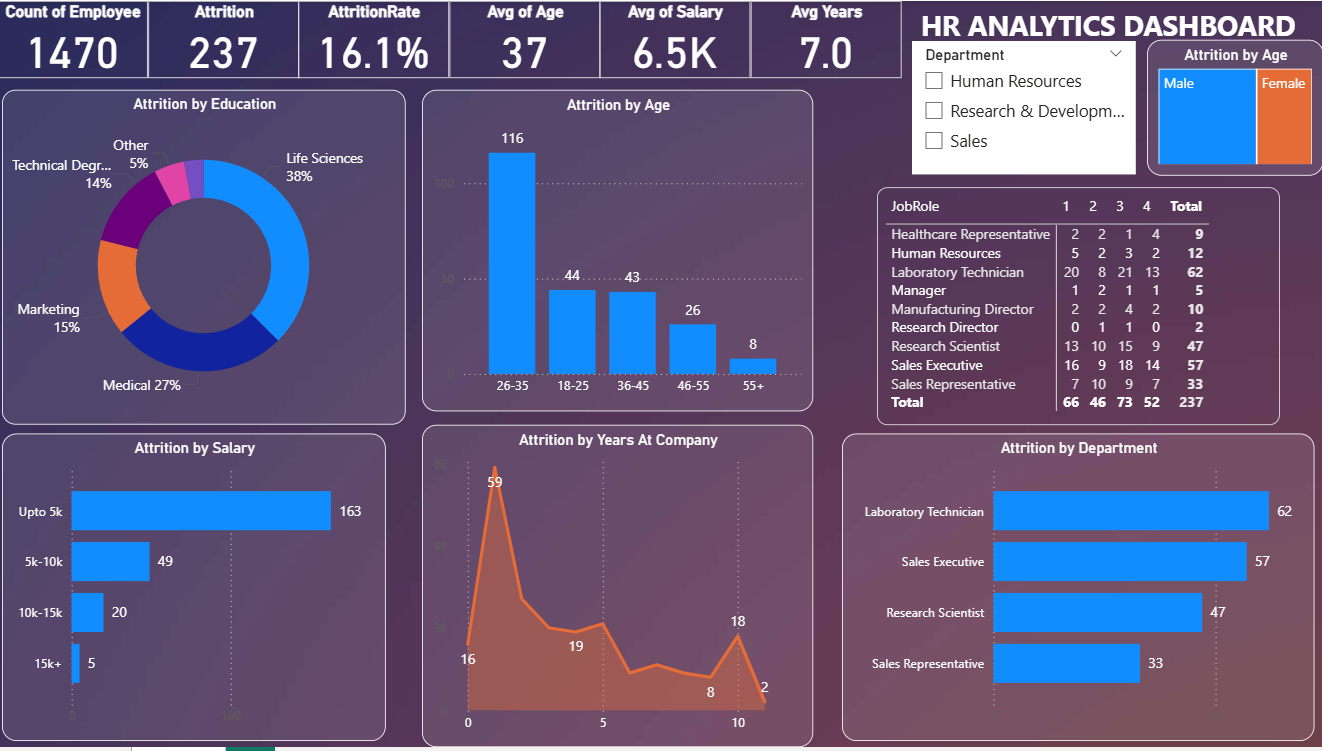

The dashboard page shown, as its layout file describes it:
{"tool":"powerbi","page":{"name":"Page 1","canvas":[1280,720],"ordinal":0},"visuals":[{"type":"card","title":"Count of Employee","fields":{"Values":["CountNonNull(HR_Analytics.EmpID)"]},"box":[0,0,145.5,74.1],"z":0},{"type":"card","title":"Attrition","fields":{"Values":["Sum(HR_Analytics.AttritionCount)"]},"box":[145.5,0,145.5,74.1],"z":1000},{"type":"card","title":" AttritionRate","fields":{"Values":["HR_Analytics.AttritionRate"]},"box":[290.8,0,145.4,74.1],"z":2000},{"type":"card","title":"Avg of Age","fields":{"Values":["Avg(HR_Analytics.Age)"]},"box":[436.2,0,145.4,74.1],"z":3000},{"type":"card","title":"Avg of Salary","fields":{"Values":["Avg(HR_Analytics.MonthlyIncome)"]},"box":[581.6,0,145.4,74.1],"z":4000},{"type":"card","title":"Avg Years","fields":{"Values":["Avg(HR_Analytics.YearsAtCompany)"]},"box":[726.9,0,145.4,74.1],"z":5000},{"type":"donutChart","title":"Attrition by Education","fields":{"Category":["HR_Analytics.EducationField"],"Y":["Sum(HR_Analytics.AttritionCount)"]},"box":[4.8,85.7,389.7,323.3],"z":6000},{"type":"columnChart","title":"Attrition by Age","fields":{"Y":["Sum(HR_Analytics.AttritionCount)"],"Category":["HR_Analytics.AgeGroup"]},"box":[410.2,85.7,377.6,310.1],"z":7000},{"type":"barChart","title":"Attrition by Salary","fields":{"Category":["HR_Analytics.SalarySlab"],"Y":["Sum(HR_Analytics.AttritionCount)"]},"box":[4.8,417.4,370.4,296.8],"z":8000},{"type":"barChart","title":"Attrition by Department","fields":{"Y":["Sum(HR_Analytics.AttritionCount)"],"Category":["HR_Analytics.JobRole"]},"box":[815.6,417.4,456,296.8],"z":9000},{"type":"areaChart","title":"Attrition by Years At Company","fields":{"Category":["HR_Analytics.YearsAtCompany"],"Y":["Sum(HR_Analytics.AttritionCount)"]},"box":[410.2,409,377.6,311.3],"z":10000},{"type":"treemap","title":"Attrition by Age","fields":{"Group":["HR_Analytics.Gender"],"Values":["Sum(HR_Analytics.AttritionCount)"]},"box":[1109.9,37.4,170.1,131.5],"z":11000},{"type":"slicer","fields":{"Values":["HR_Analytics.Department"]},"box":[883.1,38.6,216,129.1],"z":12000},{"type":"textbox","box":[886.7,0,393.3,63.9],"z":13000},{"type":"pivotTable","fields":{"Rows":["HR_Analytics.JobRole"],"Columns":["HR_Analytics.JobSatisfaction"],"Values":["Sum(HR_Analytics.AttritionCount)"]},"box":[849.3,179.8,388.5,229.2],"z":14000}]}

Visuals, with their boxes in screenshot pixels (x1, y1, x2, y2), scaled from the page's 1280x720 canvas onto the 1322x751 screenshot:
"Count of Employee" card: {"left": 0, "top": 0, "right": 150, "bottom": 77}
"Attrition" card: {"left": 150, "top": 0, "right": 301, "bottom": 77}
" AttritionRate" card: {"left": 300, "top": 0, "right": 451, "bottom": 77}
"Avg of Age" card: {"left": 451, "top": 0, "right": 601, "bottom": 77}
"Avg of Salary" card: {"left": 601, "top": 0, "right": 751, "bottom": 77}
"Avg Years" card: {"left": 751, "top": 0, "right": 901, "bottom": 77}
"Attrition by Education" donutChart: {"left": 5, "top": 89, "right": 407, "bottom": 427}
"Attrition by Age" columnChart: {"left": 424, "top": 89, "right": 814, "bottom": 413}
"Attrition by Salary" barChart: {"left": 5, "top": 435, "right": 388, "bottom": 745}
"Attrition by Department" barChart: {"left": 842, "top": 435, "right": 1313, "bottom": 745}
"Attrition by Years At Company" areaChart: {"left": 424, "top": 427, "right": 814, "bottom": 750}
"Attrition by Age" treemap: {"left": 1146, "top": 39, "right": 1321, "bottom": 176}
slicer - HR_Analytics.Department: {"left": 912, "top": 40, "right": 1135, "bottom": 175}
textbox: {"left": 916, "top": 0, "right": 1321, "bottom": 67}
pivotTable - HR_Analytics.JobRole x HR_Analytics.JobSatisfaction: {"left": 877, "top": 188, "right": 1278, "bottom": 427}
